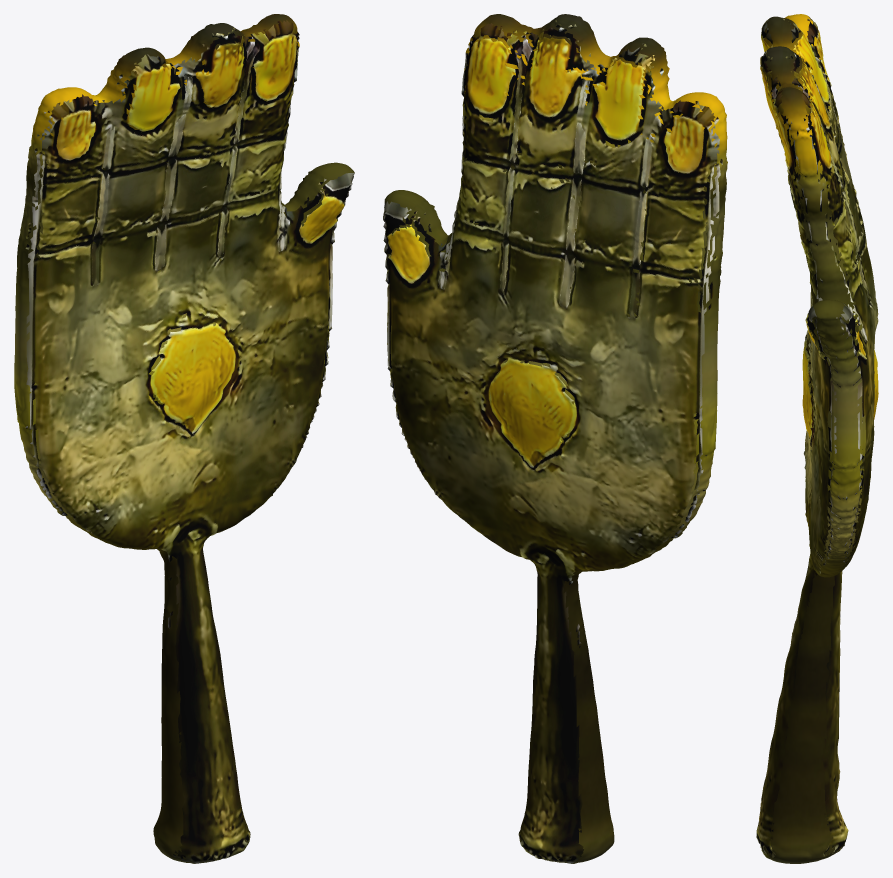
File: kfl-2147.glb
3 renders of one model, left to right at view 1: azimuth 30°, elevation 25°; view 2: azimuth 150°, elevation 25°; view 3: azimuth 270°, elevation 25°, orthographic. The views are drawn at different scales.
Parts seen in each view (by area): view 1: kfl-2147; view 2: kfl-2147; view 3: kfl-2147.
Part boxes in pixels (x1,y1,x2,y2): kfl-2147: (14, 14, 354, 863); kfl-2147: (383, 14, 727, 863); kfl-2147: (756, 14, 878, 863).
Bounding box in the file's own units: 0.4163 × 0.9971 × 0.1369.
Materials: 4 (4 with a texture image).
